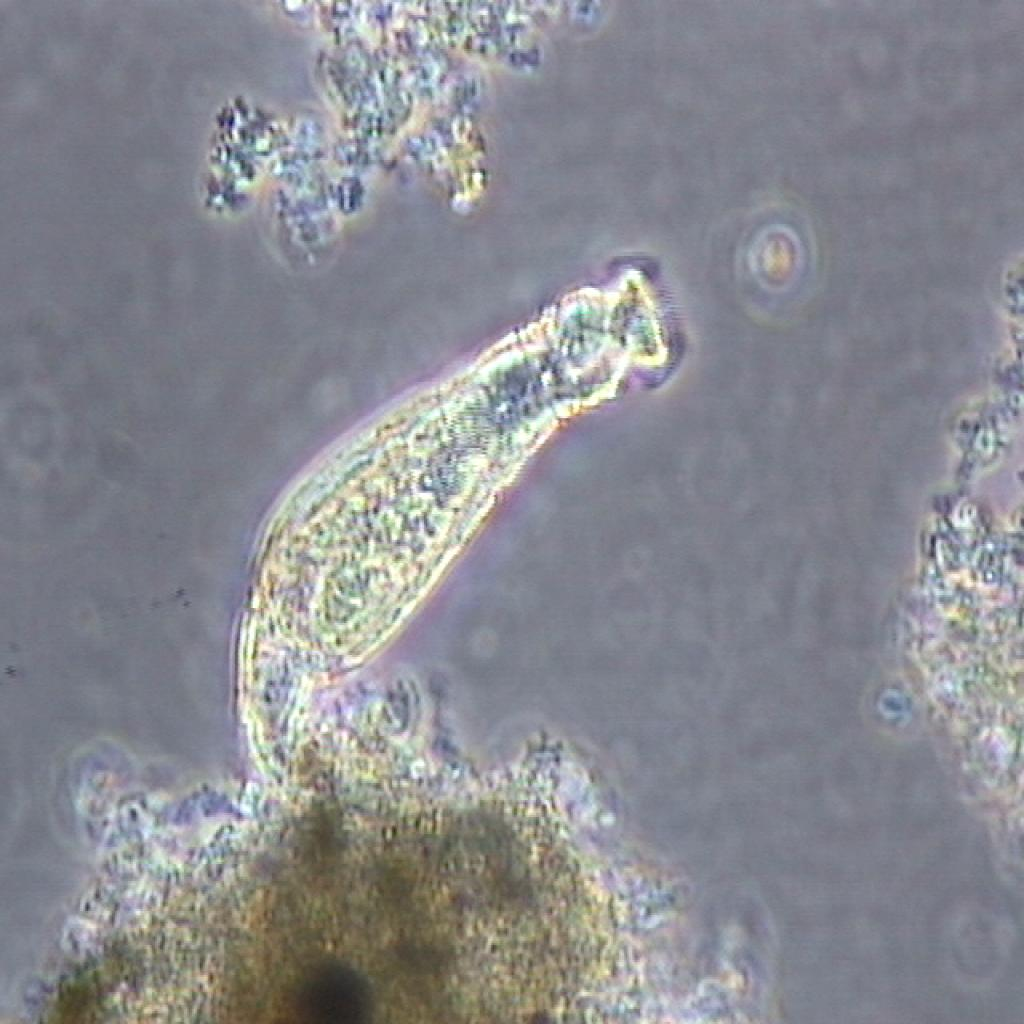Rotatoria: (218, 257, 686, 769)
